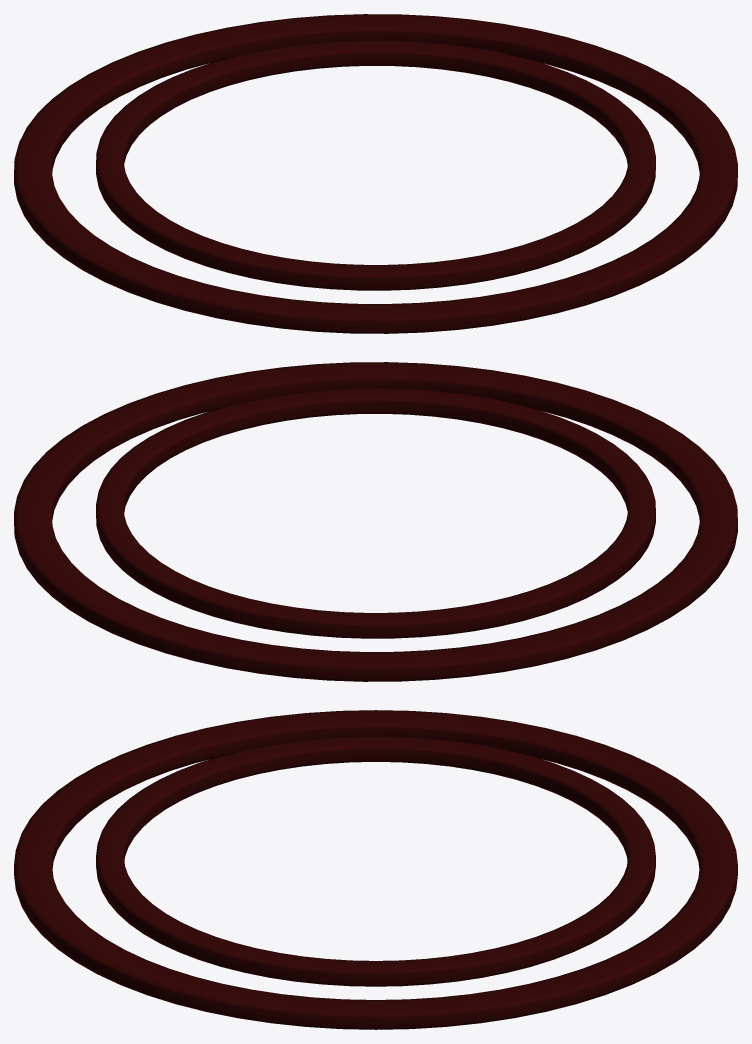
File: red.obj
3 renders of one model, top to bottom at view 1: azimuth 30°, elevation 25°; view 2: azimuth 150°, elevation 25°; view 3: azimuth 270°, elevation 25°, orthographic.
Parts seen in each view (by area): view 1: Circle; view 2: Circle; view 3: Circle.
Part boxes in pixels (x1,y1,x2,y2): Circle: (14,14,737,333); Circle: (14,362,737,681); Circle: (14,710,737,1029).
Bounding box in the file's own units: 2.06 × 0.0776 × 2.06.
